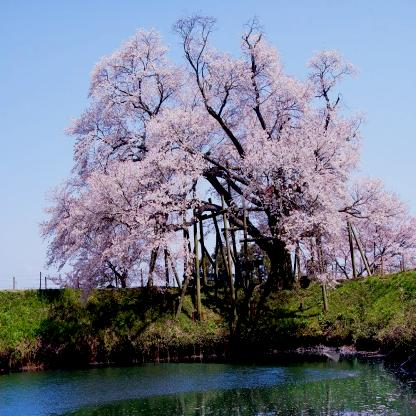Someiyoshino: (42, 29, 362, 296), (355, 176, 414, 275)
